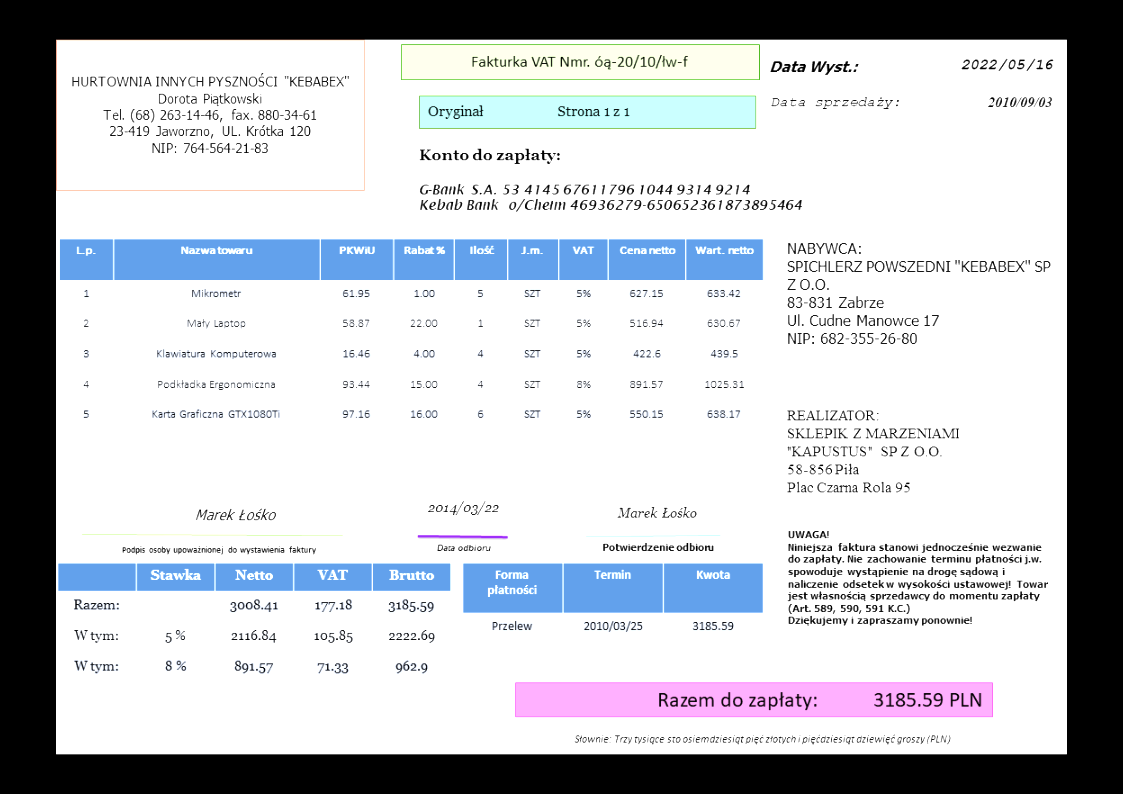Table: (58, 238, 764, 434), (57, 562, 453, 685), (461, 562, 764, 650)
TextBox: (783, 240, 1053, 348), (784, 527, 1051, 628), (70, 72, 352, 158), (784, 406, 963, 496), (416, 181, 804, 215), (656, 689, 985, 713), (572, 731, 953, 748), (468, 51, 689, 71), (426, 103, 632, 120), (415, 144, 564, 167), (117, 542, 320, 557), (768, 95, 900, 110), (957, 55, 1054, 74), (767, 57, 862, 75), (600, 540, 718, 554), (194, 505, 278, 523), (615, 505, 699, 522), (424, 500, 503, 518), (985, 95, 1052, 109), (433, 540, 493, 554)
